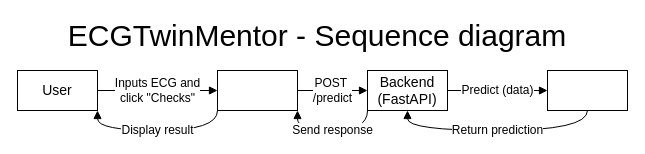
This 645x154 diagram has some shape labels left out. Here are the shapes that lost their labels. From the top down, the centre of each, then its label:
the point at 257,90: Frontend (React)
the point at 587,90: Model
